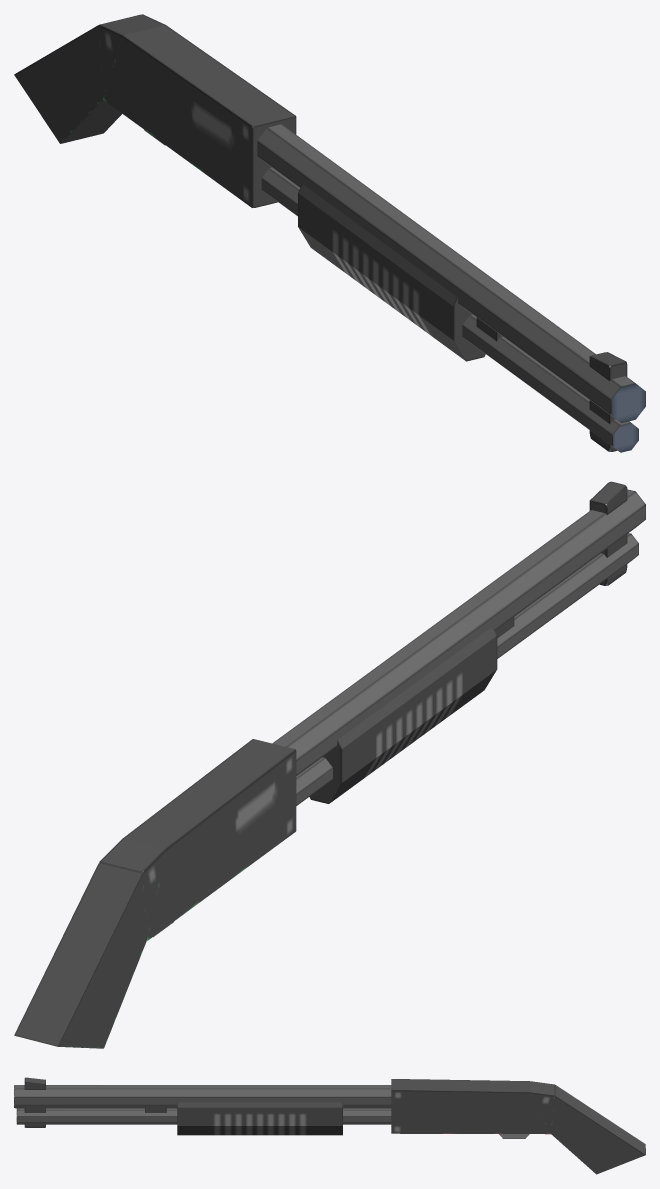
Rendered from shotgun.fbx.
The picture shows the model from 3 angles, top to bottom: view 1: azimuth 30°, elevation 25°; view 2: azimuth 150°, elevation 25°; view 3: azimuth 270°, elevation 25°; orthographic projection. The views are drawn at different scales.
Parts seen in each view (by area): view 1: cylinder; view 2: cylinder; view 3: cylinder.
Part boxes in pixels (bbox=[...]): cylinder: bbox=[14, 14, 645, 452]; cylinder: bbox=[14, 481, 645, 1048]; cylinder: bbox=[14, 1077, 645, 1174].
Size of the model in its own units: 15.63 by 57.53 by 369.
1 material, 1 textured.
